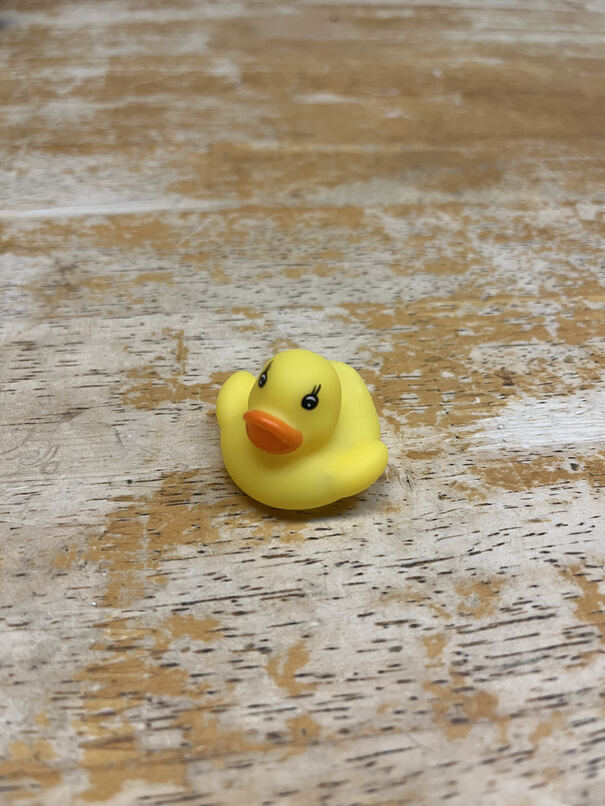duck_regular: (216, 348, 389, 510)
